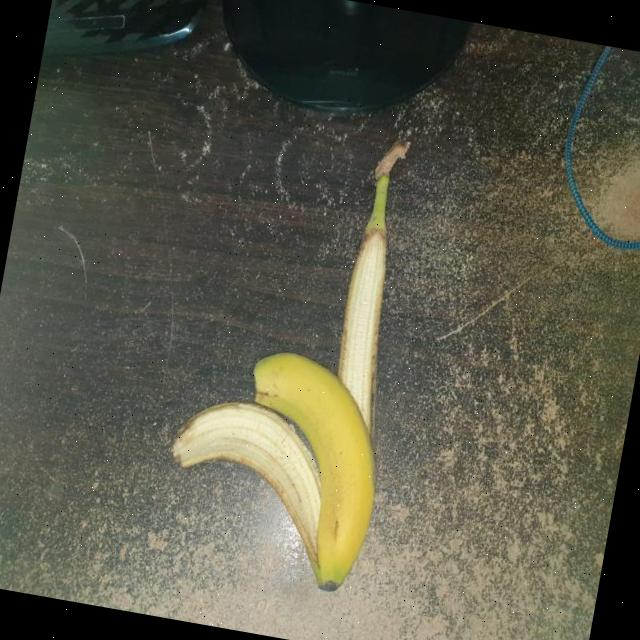banana-peel: (151, 332, 397, 596)
